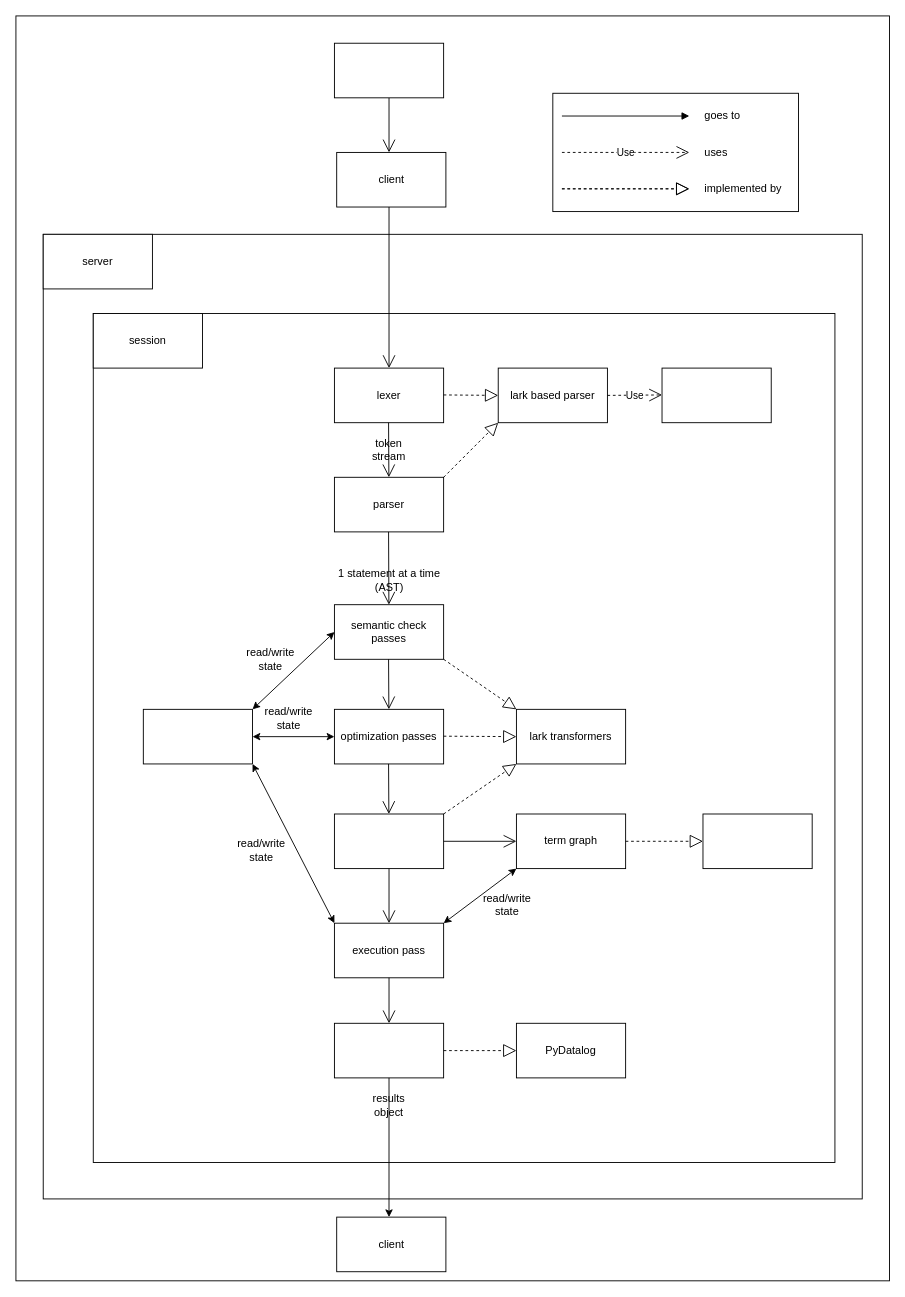
This 905x1297 diagram has some shape labels left out. Each missing label, with the box of its shape:
Datalog execution engine: (334, 1022, 444, 1078)
grammar file: (661, 367, 771, 423)
networkx: (702, 813, 812, 869)
pass that adds the statement to the term graph: (334, 813, 444, 869)
source code: (334, 42, 444, 98)
symbol table: (142, 708, 253, 764)
